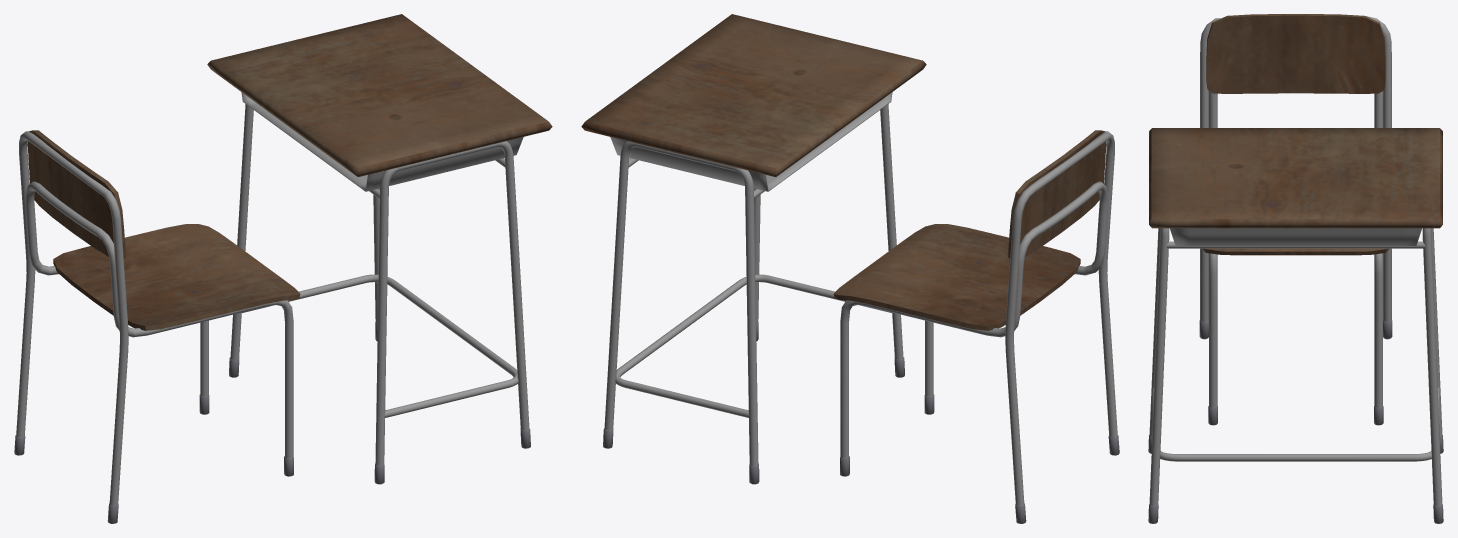
File: chair.fbx
3 views of the same model, side by side, from view 1: azimuth 30°, elevation 25°; view 2: azimuth 150°, elevation 25°; view 3: azimuth 270°, elevation 25° (orthographic). The views are drawn at different scales.
Visible parts, largest first — view 1: chair_panels; view 2: chair_panels; view 3: chair_panels.
Part boxes in pixels (bbox=[...]): chair_panels: bbox=[14, 14, 552, 523]; chair_panels: bbox=[581, 14, 1119, 523]; chair_panels: bbox=[1148, 14, 1443, 523].
Size of the model in its own units: 236 by 179 by 148.
